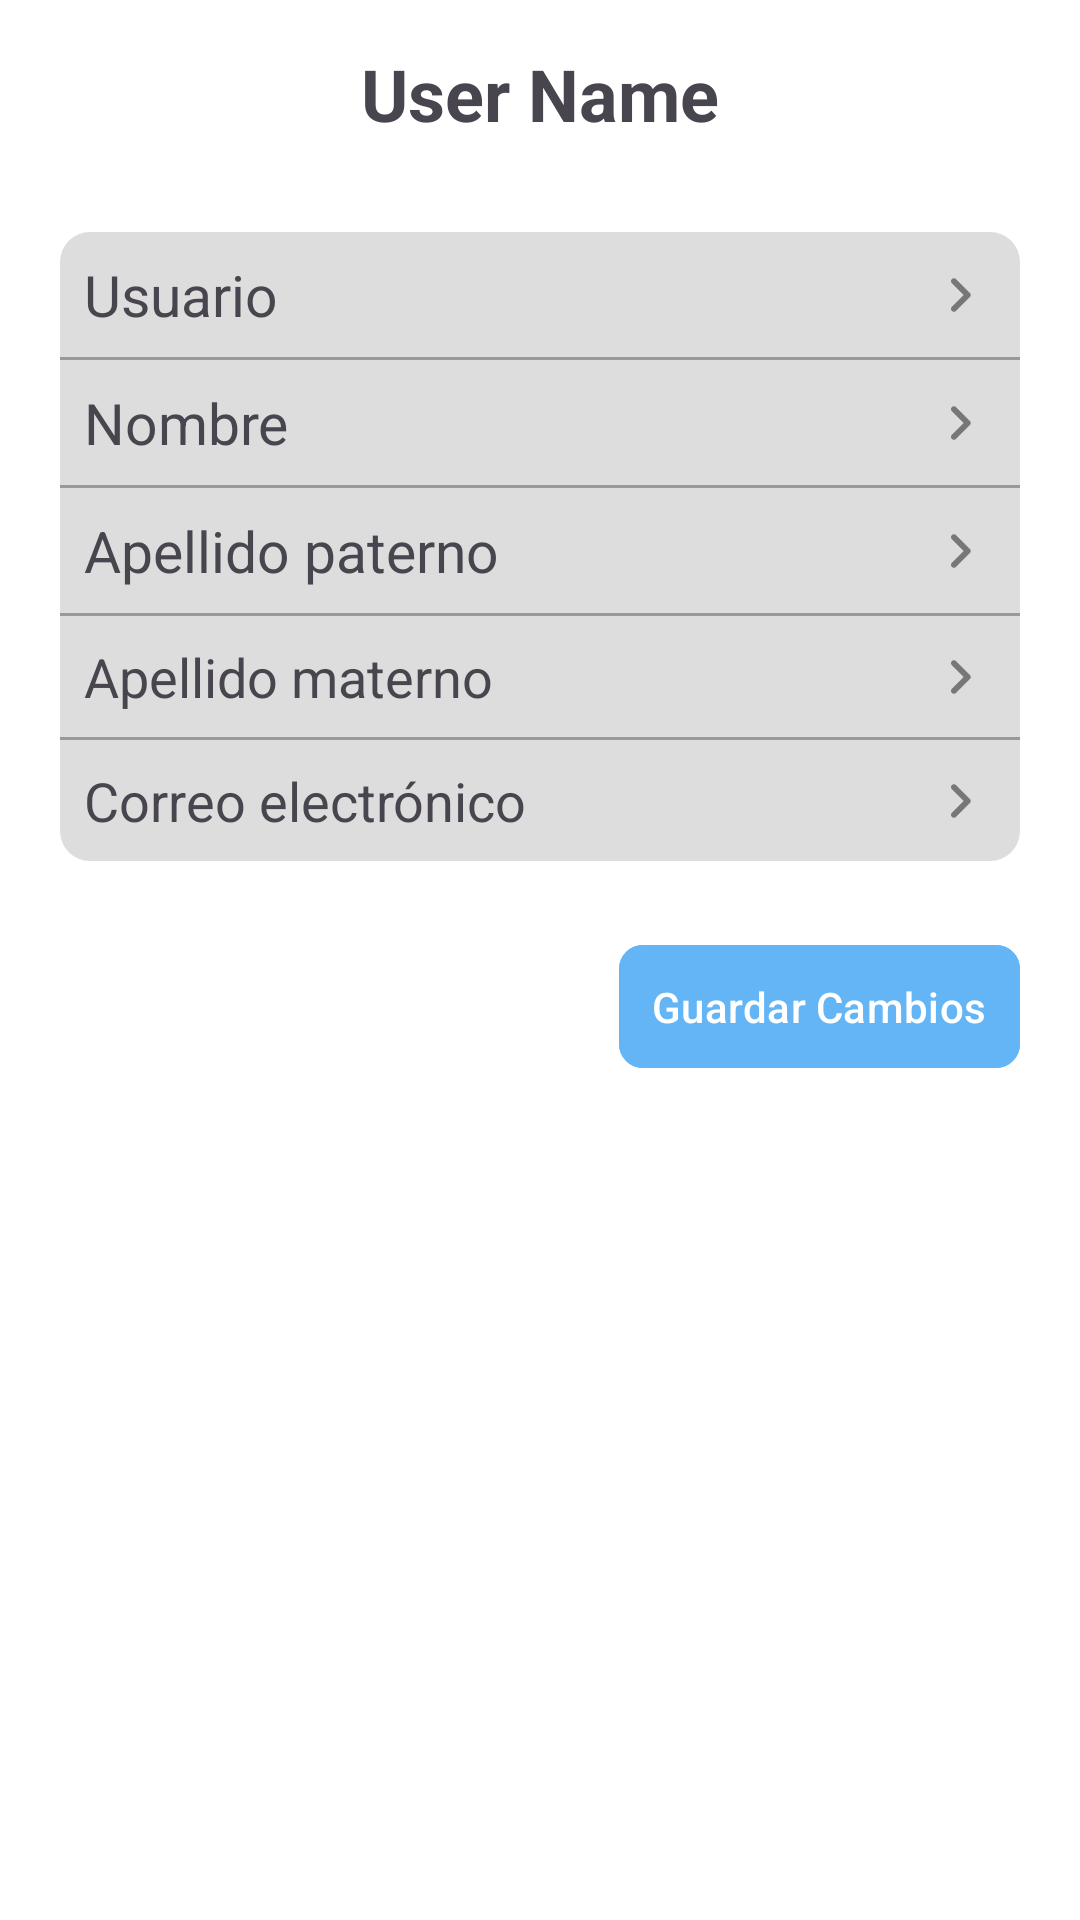

Screen size 1080*1920. Icon name, then its box in pixels as detection(x1, y1, x2, y2):
arrow next: detection(951, 278, 971, 312), detection(951, 406, 971, 440), detection(951, 534, 971, 568), detection(951, 660, 971, 694), detection(951, 784, 971, 818)
